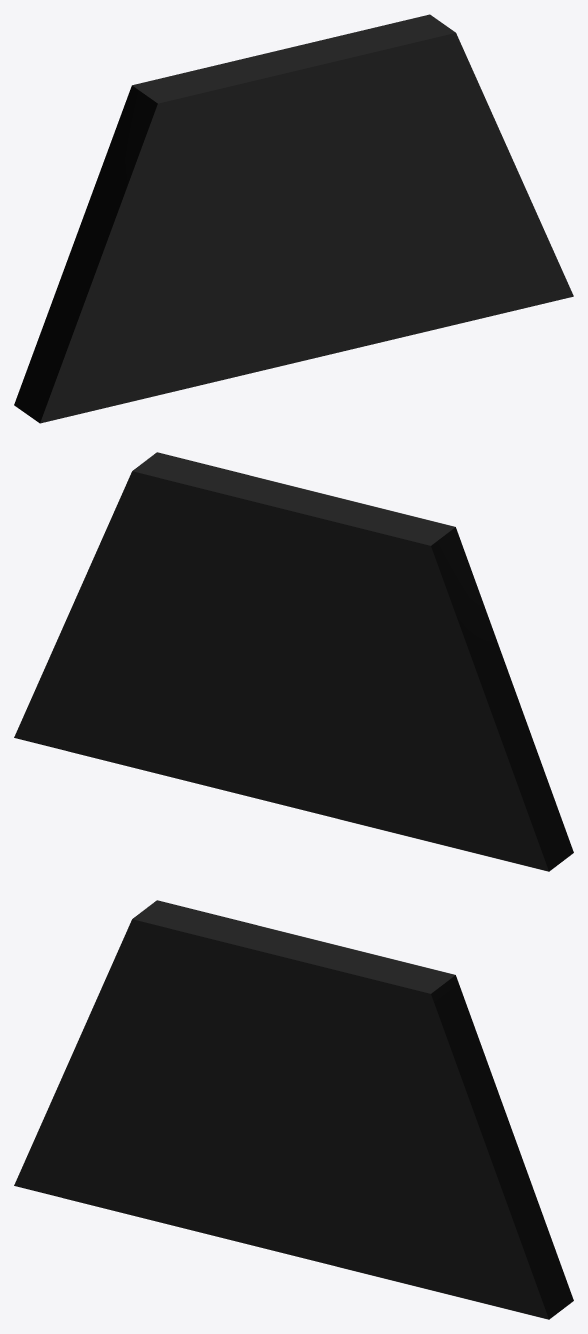
File: Structure02_Art.fbx
The picture shows the model from 3 angles, top to bottom: view 1: azimuth 30°, elevation 25°; view 2: azimuth 150°, elevation 25°; view 3: azimuth 330°, elevation 25°; orthographic projection.
Parts seen in each view (by area): view 1: Structure02_Art; view 2: Structure02_Art; view 3: Structure02_Art.
Boxes of the visible parts, <box> form: Structure02_Art: <box>14,14,573,423</box>; Structure02_Art: <box>14,452,573,871</box>; Structure02_Art: <box>14,900,573,1319</box>.
Bounding box in the file's own units: 0.8837 × 0.4638 × 0.0826.
